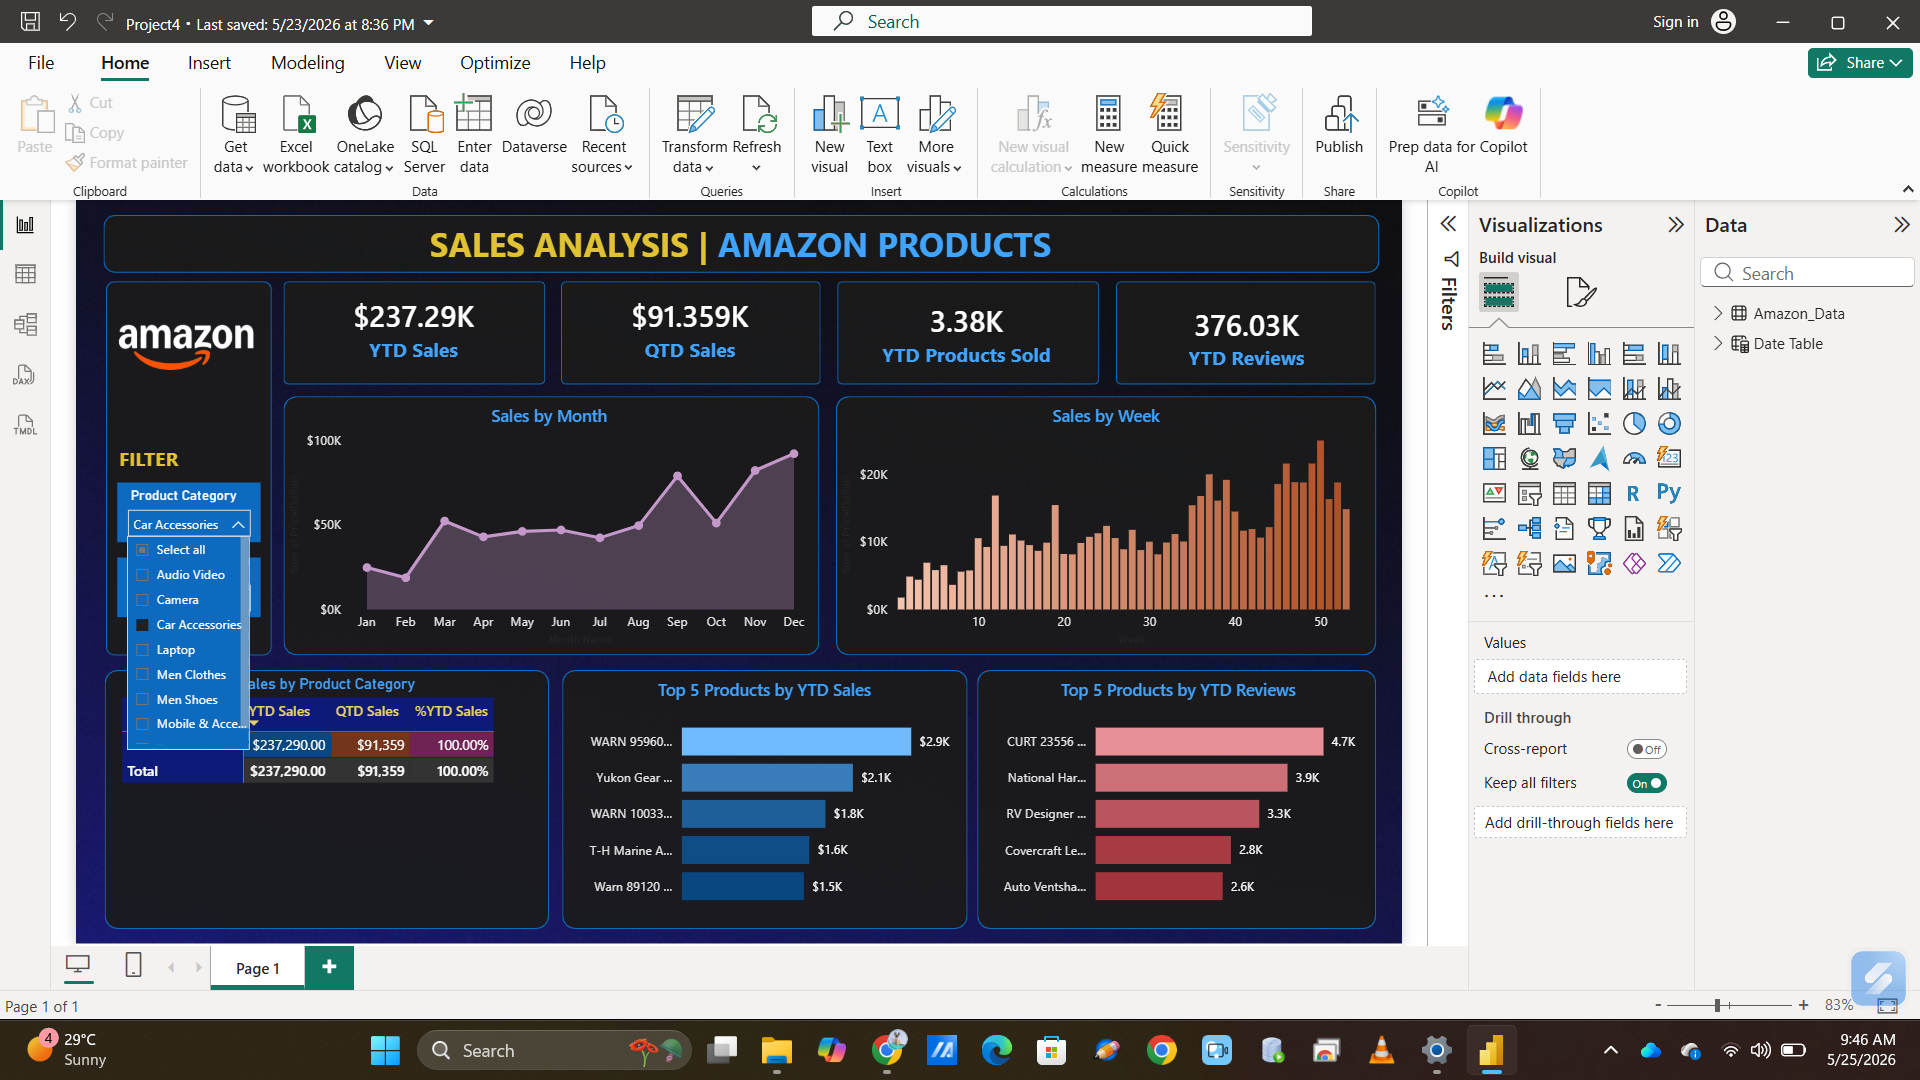

This screenshot's page, from the dashboard's own definition file:
{"tool":"powerbi","page":{"name":"Page 1","canvas":[1280,720],"ordinal":0},"visuals":[{"type":"shape","box":[27.1,14.3,1231.4,55.7],"z":0},{"type":"textbox","box":[306,16,670,54],"z":1000},{"type":"shape","box":[200,78.6,252.6,99.7],"z":2000,"group":"g1"},{"type":"shape","box":[28.8,78.8,160,361.2],"z":4000},{"type":"cardVisual","fields":{"Data":["Amazon_Data.YTD Sales"]},"box":[223.8,78.9,203.1,91.7],"z":4001,"group":"g1"},{"type":"shape","box":[468.2,78.9,250.7,99.7],"z":4004,"group":"g1"},{"type":"shape","box":[734.5,78.9,252.8,99.7],"z":4005,"group":"g1"},{"type":"shape","box":[1002.9,78.9,250.7,99.7],"z":4006,"group":"g1"},{"type":"cardVisual","fields":{"Data":["Amazon_Data.QTD Sales"]},"box":[491.1,78.9,203.1,91.7],"z":4007,"group":"g1"},{"type":"cardVisual","fields":{"Data":["Amazon_Data.YTD Products Sold"]},"box":[733.5,82.9,252.8,91.7],"z":4008,"group":"g1"},{"type":"cardVisual","fields":{"Data":["Amazon_Data.YTD Reviews"]},"box":[1002.9,86.9,252.8,91.7],"z":4009,"group":"g1"},{"type":"group","id":"g1","title":"Group 1","box":[200,78.6,1054.3,100],"z":4010},{"type":"shape","box":[200,190,517.1,250],"z":4011,"group":"g4"},{"type":"areaChart","title":"Sales by Month ","fields":{"Category":["Date Table.Month Name"],"Y":["Sum(Amazon_Data.Price(Dollar))"]},"box":[200,197.1,512.9,238.6],"z":4012,"group":"g4"},{"type":"shape","box":[732.9,190,521.4,250],"z":4013,"group":"g4"},{"type":"columnChart","title":"Sales by Week","fields":{"Category":["Date Table.Week"],"Y":["Sum(Amazon_Data.Price(Dollar))"]},"box":[732.9,197.1,521.4,238.6],"z":4014,"group":"g4"},{"type":"shape","box":[27.5,453.8,428.8,250],"z":4015,"group":"g2"},{"type":"shape","box":[468.7,453.8,391.2,250],"z":4017,"group":"g2"},{"type":"pivotTable","title":"Sales by Product Category","fields":{"Rows":["Amazon_Data.Product Category"],"Values":["Amazon_Data.YTD Sales1","Amazon_Data.QTD Sales","Amazon_Data.YTD Sales"]},"box":[40,458.8,405,245],"z":4019,"group":"g2"},{"type":"shape","box":[870,453.8,385,250],"z":4020,"group":"g2"},{"type":"clusteredBarChart","title":"Top 5 Products by YTD Sales ","fields":{"Category":["Amazon_Data.Product Description"],"Y":["Amazon_Data.YTD Sales"]},"box":[478.7,461.3,371.2,235],"z":4021,"group":"g2"},{"type":"clusteredBarChart","title":"Top 5 Products by YTD Reviews ","fields":{"Category":["Amazon_Data.Product Description"],"Y":["Amazon_Data.YTD Reviews"]},"box":[877.5,461.3,371.2,235],"z":4022,"group":"g2"},{"type":"slicer","fields":{"Values":["Date Table.QTR"]},"box":[40,345,138.8,57.5],"z":4023,"group":"g3"},{"type":"slicer","fields":{"Values":["Amazon_Data.Product Category"]},"box":[40,272.4,138.8,57.5],"z":4024,"group":"g3"},{"type":"textbox","box":[28.8,231.2,82.5,41.2],"z":4025,"group":"g3"},{"type":"image","box":[0,86.2,200,115],"z":4026},{"type":"group","id":"g2","title":"Group 2","box":[27.5,453.8,1227.5,250],"z":4027},{"type":"group","id":"g3","title":"Group 3","box":[28.8,231.2,150,171.2],"z":4028},{"type":"group","id":"g4","title":"Group 4","box":[200,190,1054.3,250],"z":4029}]}

Visuals, with their boxes on the page's 1280x720 design canvas (x1, y1, x2, y2). These are canvas units, not pixel positions in the 1920x1080 screenshot, which may show the page scaled, cropped or inside an application window:
shape: Rect(27, 14, 1258, 70)
textbox: Rect(306, 16, 976, 70)
shape: Rect(200, 79, 453, 178)
shape: Rect(29, 79, 189, 440)
cardVisual - Amazon_Data.YTD Sales: Rect(224, 79, 427, 171)
shape: Rect(468, 79, 719, 179)
shape: Rect(734, 79, 987, 179)
shape: Rect(1003, 79, 1254, 179)
cardVisual - Amazon_Data.QTD Sales: Rect(491, 79, 694, 171)
cardVisual - Amazon_Data.YTD Products Sold: Rect(734, 83, 986, 175)
cardVisual - Amazon_Data.YTD Reviews: Rect(1003, 87, 1256, 179)
"Group 1" group: Rect(200, 79, 1254, 179)
shape: Rect(200, 190, 717, 440)
"Sales by Month " areaChart: Rect(200, 197, 713, 436)
shape: Rect(733, 190, 1254, 440)
"Sales by Week" columnChart: Rect(733, 197, 1254, 436)
shape: Rect(28, 454, 456, 704)
shape: Rect(469, 454, 860, 704)
"Sales by Product Category" pivotTable: Rect(40, 459, 445, 704)
shape: Rect(870, 454, 1255, 704)
"Top 5 Products by YTD Sales " clusteredBarChart: Rect(479, 461, 850, 696)
"Top 5 Products by YTD Reviews " clusteredBarChart: Rect(878, 461, 1249, 696)
slicer - Date Table.QTR: Rect(40, 345, 179, 402)
slicer - Amazon_Data.Product Category: Rect(40, 272, 179, 330)
textbox: Rect(29, 231, 111, 272)
image: Rect(0, 86, 200, 201)
"Group 2" group: Rect(28, 454, 1255, 704)
"Group 3" group: Rect(29, 231, 179, 402)
"Group 4" group: Rect(200, 190, 1254, 440)
